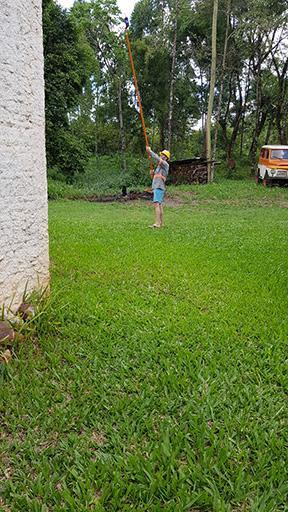Vara_Manobra: (124, 29, 155, 183)
